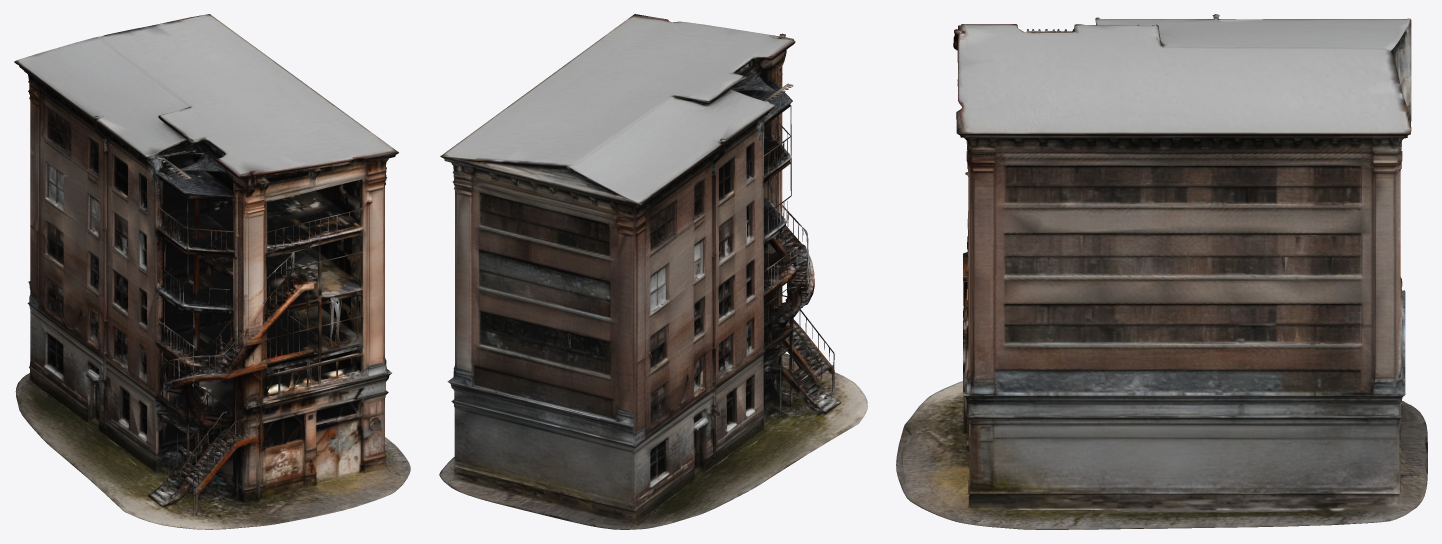
The model's file is abandoned-house.glb.
The picture shows the model from 3 angles, left to right: view 1: azimuth 30°, elevation 25°; view 2: azimuth 150°, elevation 25°; view 3: azimuth 270°, elevation 25°; orthographic projection. The views are drawn at different scales.
Parts seen in each view (by area): view 1: material; view 2: material; view 3: material.
Part boxes in pixels (x1,y1,x2,y2): material: (14, 14, 410, 529); material: (439, 14, 867, 529); material: (896, 14, 1427, 529).
Size of the model in its own units: 0.6226 by 0.7318 by 0.8807.
1 material, 1 textured.
